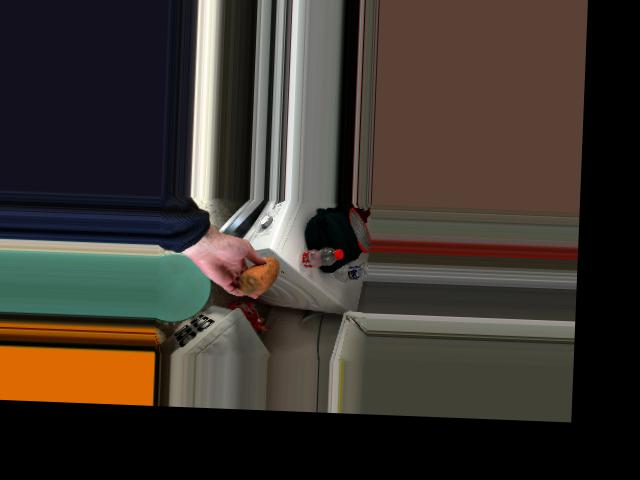sweet_potato: (233, 251, 280, 292)
